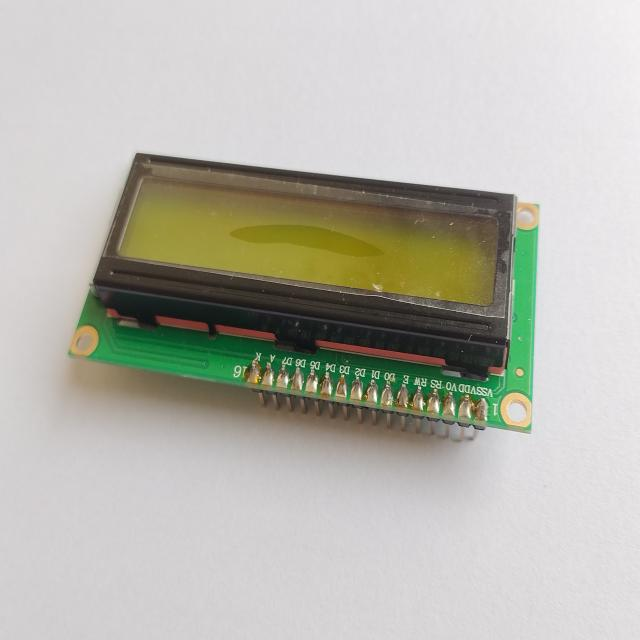lcd: (68, 149, 540, 436)
